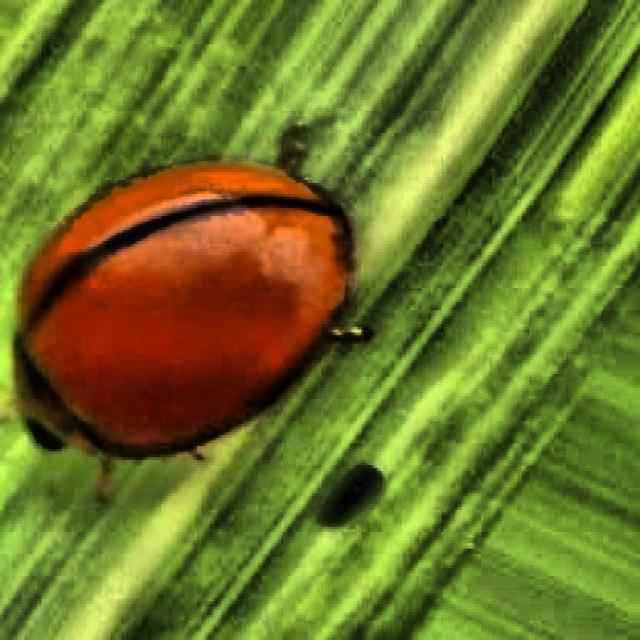Ladybug: (0, 86, 389, 540)
